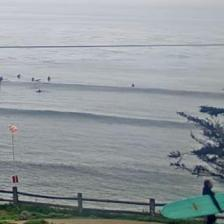surfer: (0, 76, 4, 82), (47, 76, 51, 81), (36, 90, 42, 93), (31, 77, 35, 81), (17, 73, 20, 78), (131, 83, 134, 88)
